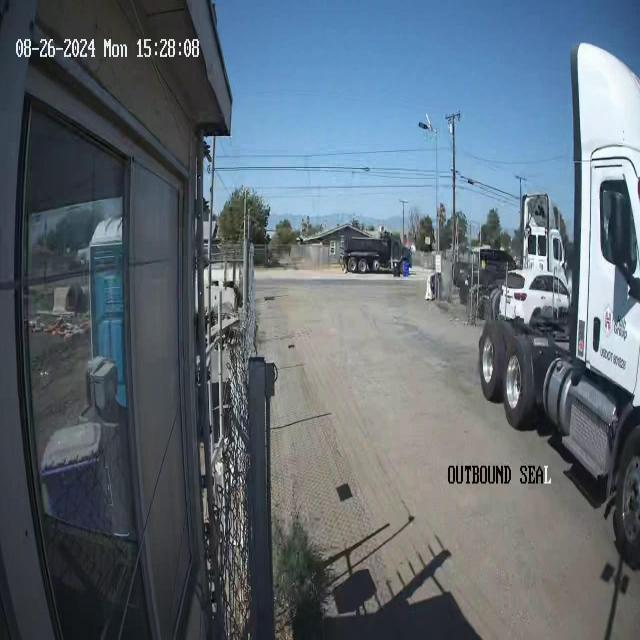TRUCK_IN: (478, 41, 639, 568)
